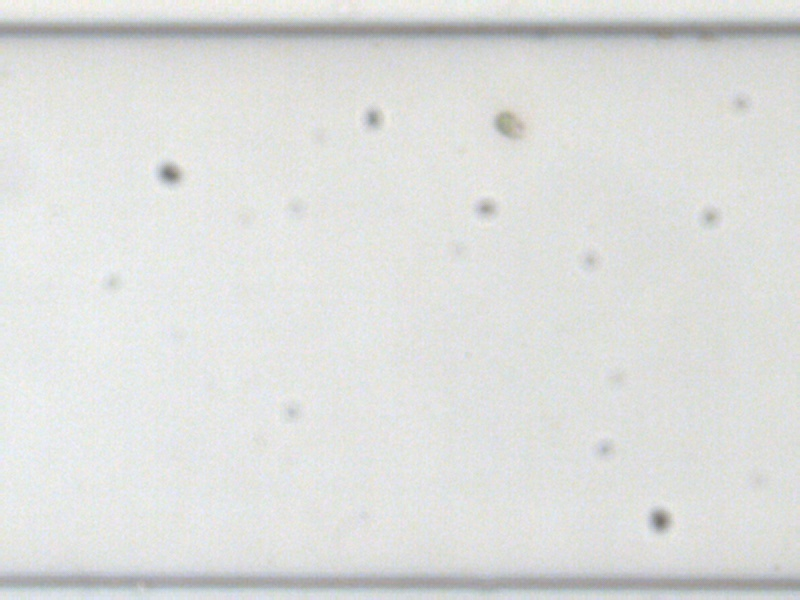Dunaliella salina: (493, 107, 526, 143)
